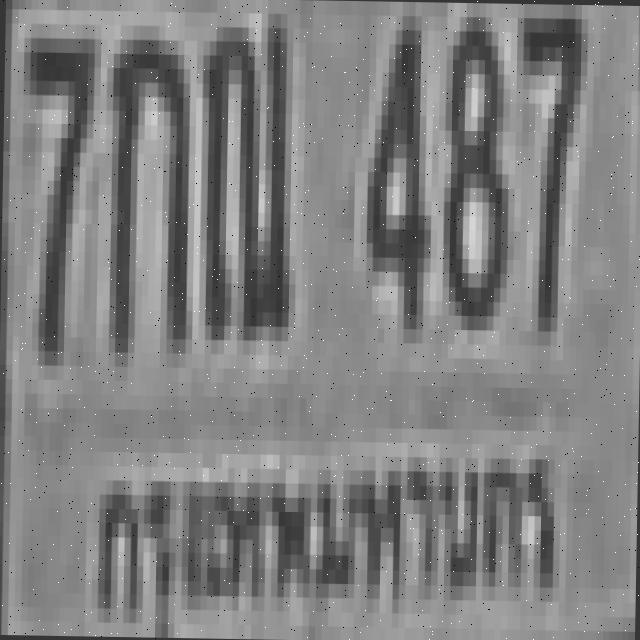10GorGai: (102, 25, 191, 353)
28NorNen: (195, 4, 290, 333)
4: (364, 8, 428, 322)
7: (22, 24, 92, 352), (512, 11, 581, 324)
8: (439, 2, 508, 316)
Bangkok: (88, 433, 568, 640)
